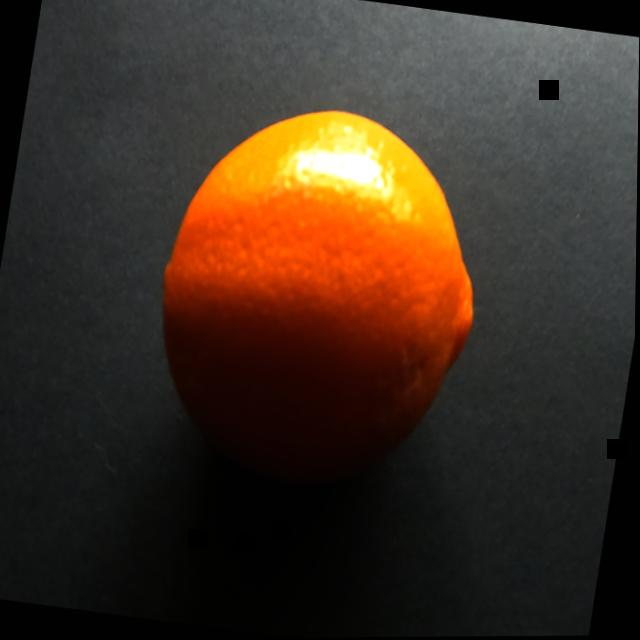Lemon: (107, 50, 533, 547)
